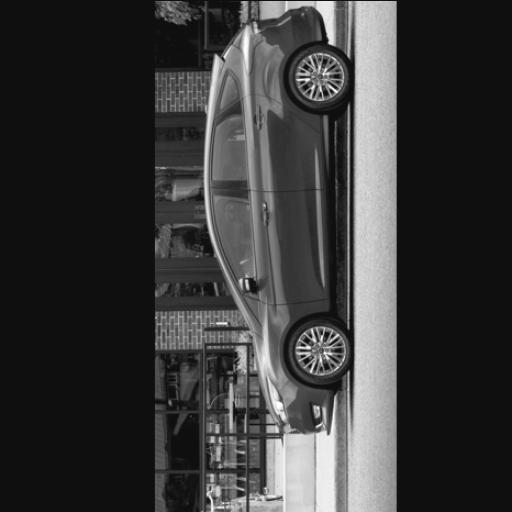hatchback: (204, 8, 353, 434)
